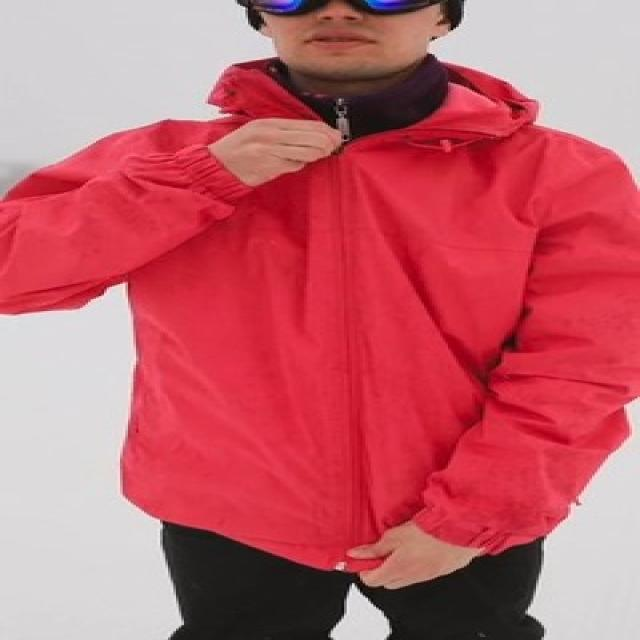Jacket_Wearer: (0, 65, 640, 557)
Person: (2, 6, 640, 638)
